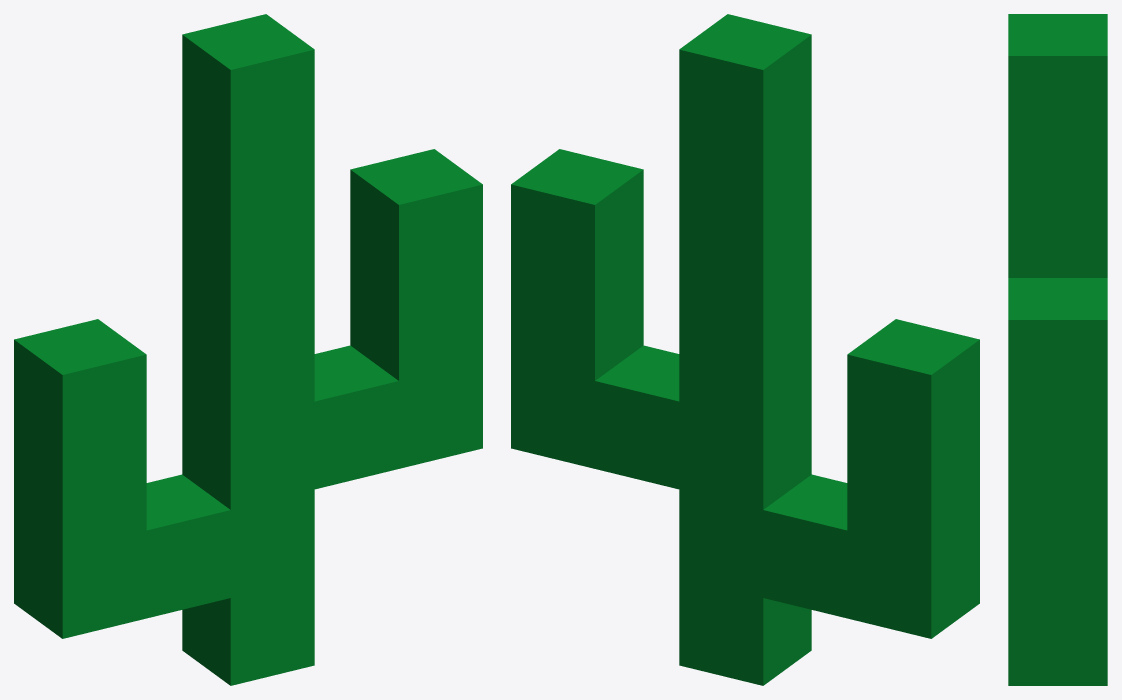
File: cactus_2.obj
3 renders of one model, left to right at view 1: azimuth 30°, elevation 25°; view 2: azimuth 150°, elevation 25°; view 3: azimuth 270°, elevation 25°, orthographic. The views are drawn at different scales.
Bounding box in the file's own units: 0.5 × 0.7 × 0.1.
1 material, 1 textured.
